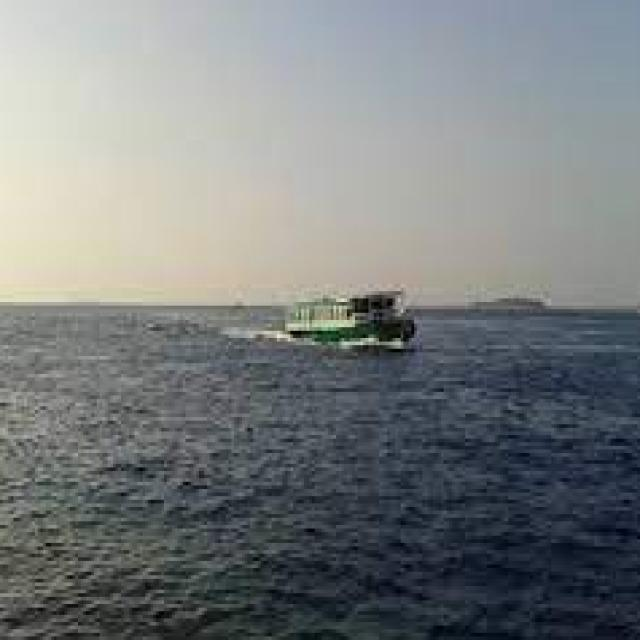houseboat: (271, 278, 428, 372)
